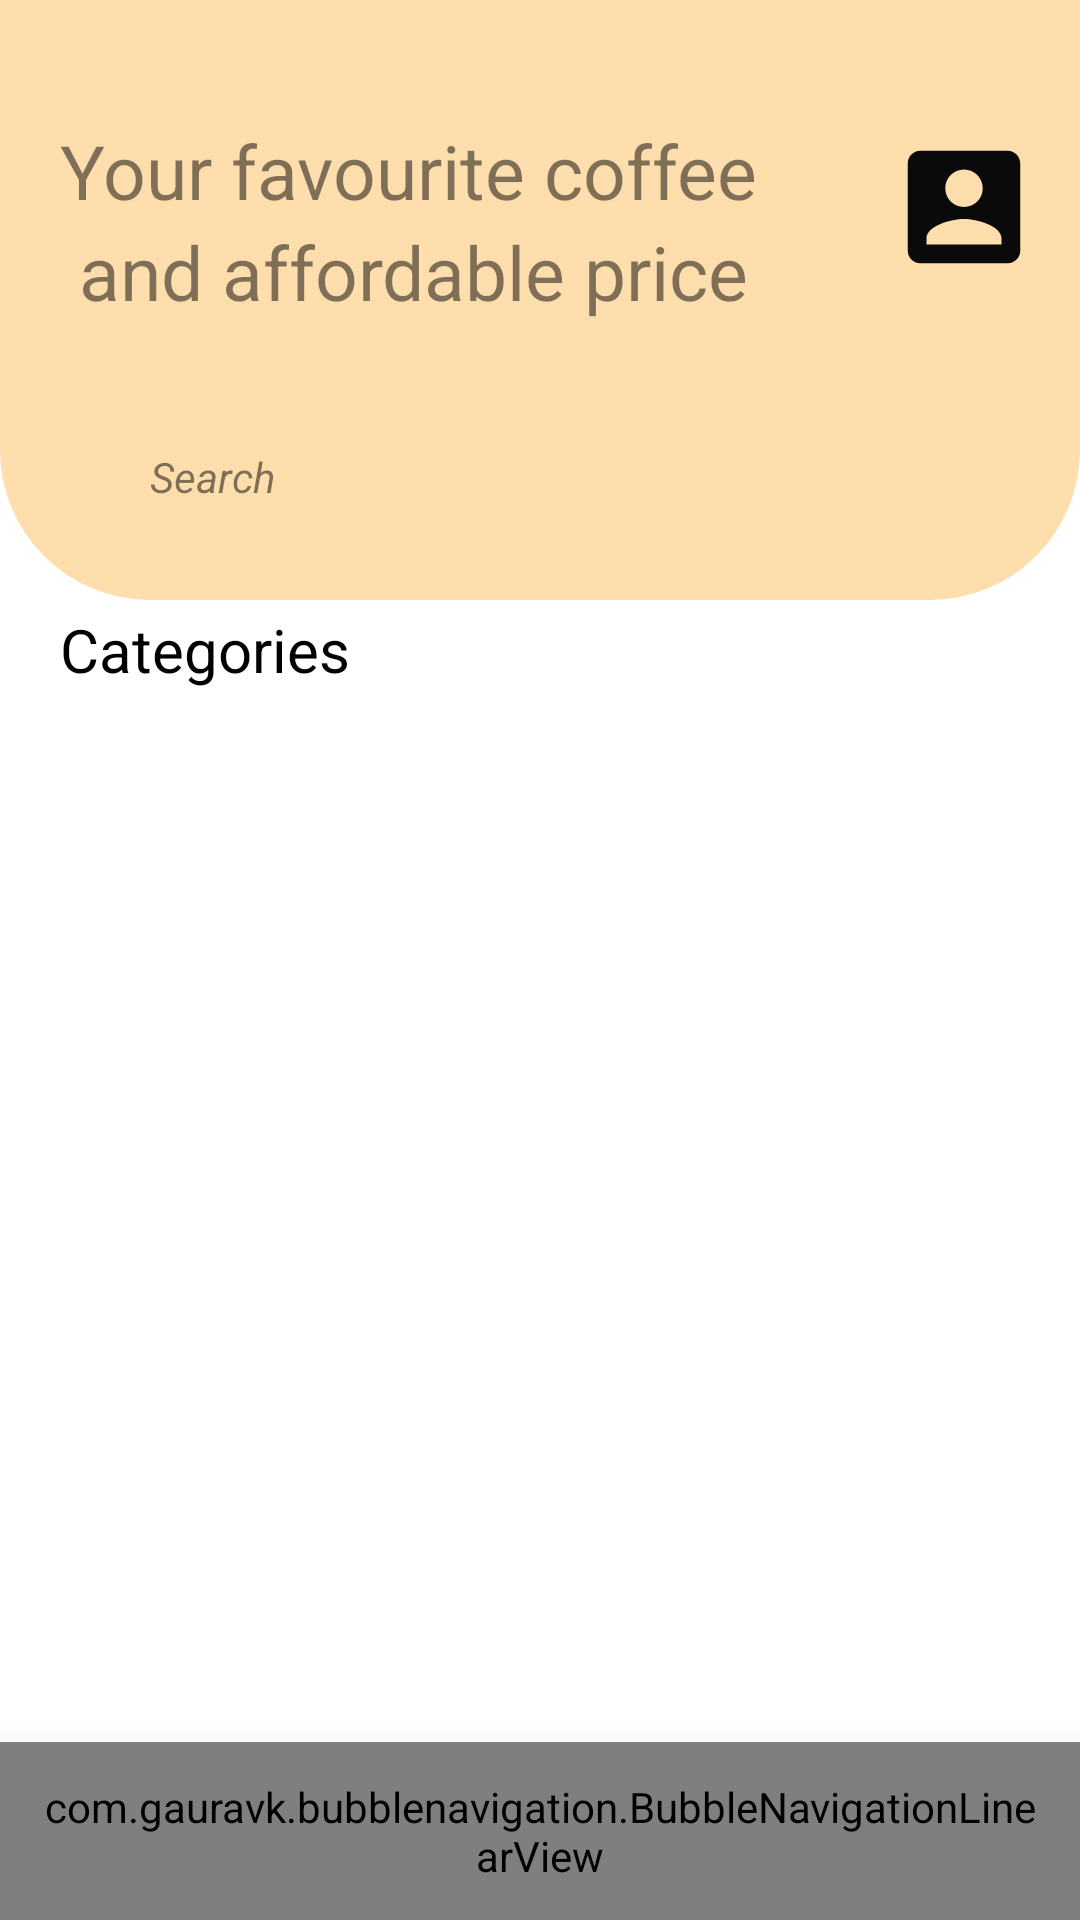

Icons on this 1080×1920 Android screen, each with the point to tap as (x,y):
profile: (964,207)
